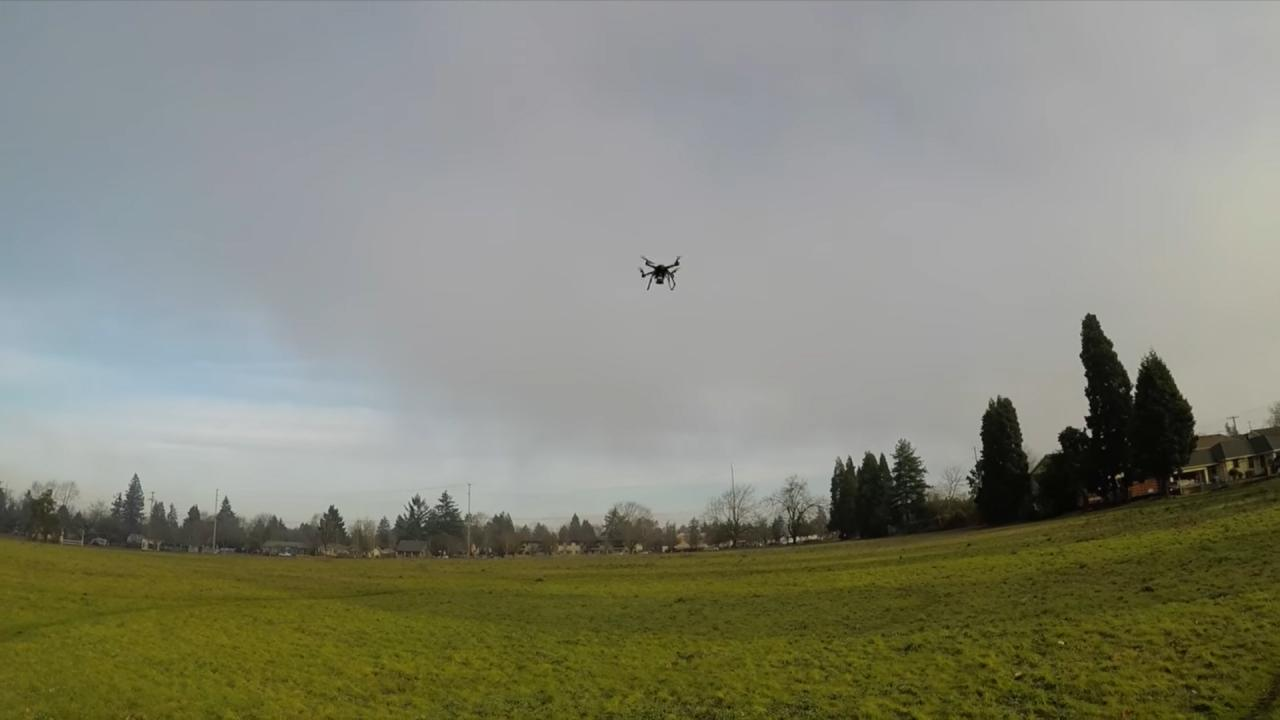Drone: (628, 244, 692, 297)
